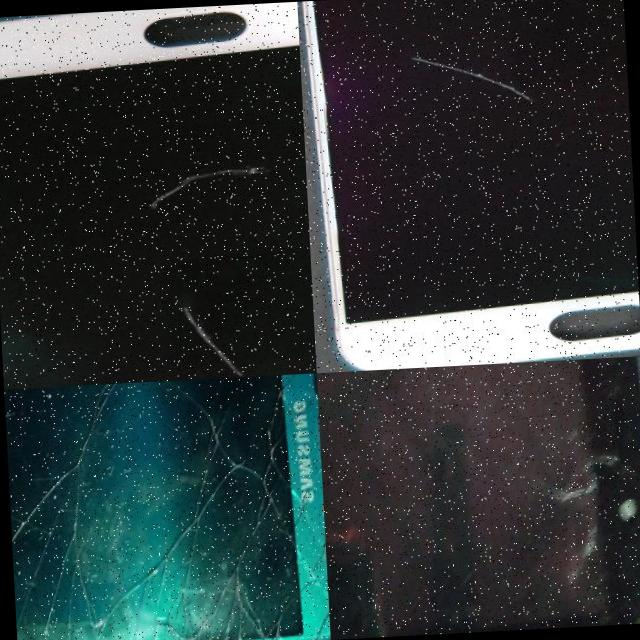scratch: (411, 47, 531, 116), (138, 164, 275, 216), (178, 300, 258, 380)
screen crack: (10, 372, 330, 640), (526, 379, 640, 612)
